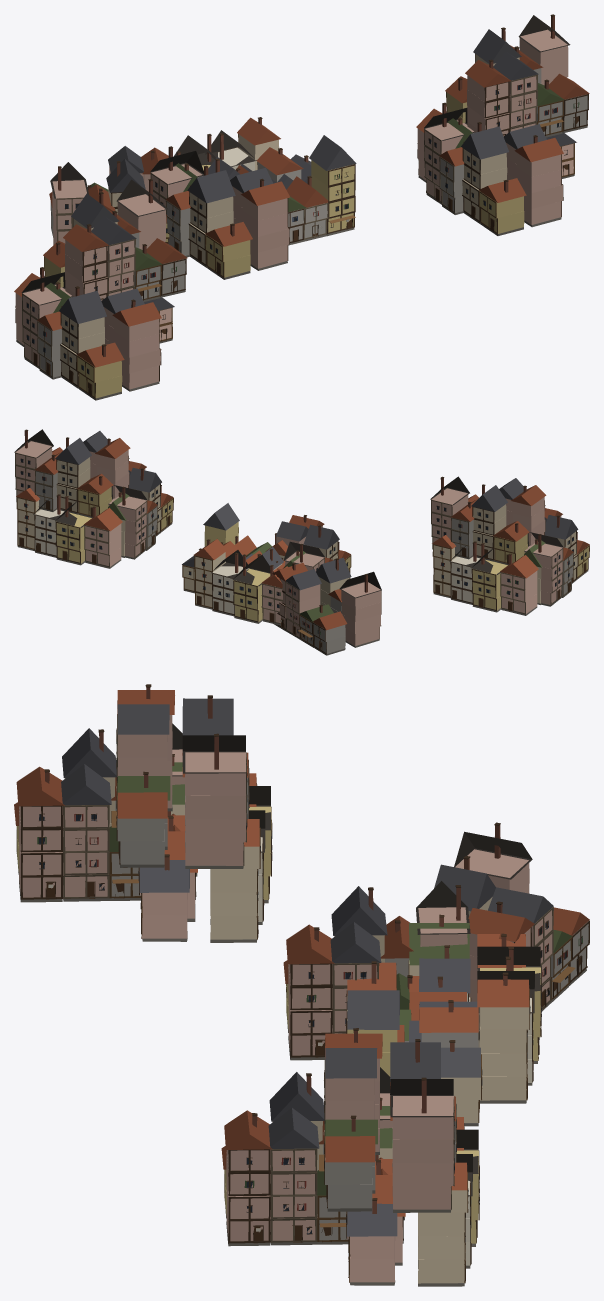
File: modular_house_blocks.glb
The picture shows the model from 3 angles, top to bottom: view 1: azimuth 30°, elevation 25°; view 2: azimuth 150°, elevation 25°; view 3: azimuth 270°, elevation 25°; orthographic projection. The views are drawn at different scales.
Visible parts, largest first — view 1: CityBlock_Var03.005, CityBlock_Var03.001, CityBlock_Var03.003, CityBlock_Var03, CityBlock_Var03.004, CityBlock_Var01, CityBlock_Var03.002, CityBlock_Var02.001, CityBlock_Var02, CityBlock_Var02.002; view 2: CityBlock_Var03.002, CityBlock_Var03, CityBlock_Var03.004, CityBlock_Var02, CityBlock_Var02.002, CityBlock_Var02.001, CityBlock_Var03.001, CityBlock_Var03.005, CityBlock_Var03.003, CityBlock_Var01; view 3: CityBlock_Var03.004, CityBlock_Var03, CityBlock_Var03.005, CityBlock_Var03.001, CityBlock_Var03.003, CityBlock_Var02.001, CityBlock_Var03.002, CityBlock_Var02.002, CityBlock_Var02, CityBlock_Var01.
Boxes of the visible parts, <box> form: CityBlock_Var03.005: <box>21,267,161,400</box>; CityBlock_Var03.001: <box>424,102,563,235</box>; CityBlock_Var03.003: <box>150,146,290,279</box>; CityBlock_Var03: <box>445,14,589,137</box>; CityBlock_Var03.004: <box>43,178,187,301</box>; CityBlock_Var01: <box>203,135,356,245</box>; CityBlock_Var03.002: <box>49,146,169,244</box>; CityBlock_Var02.001: <box>174,117,293,191</box>; CityBlock_Var02: <box>416,108,576,182</box>; CityBlock_Var02.002: <box>14,273,174,346</box>; CityBlock_Var03.002: <box>272,557,381,655</box>; CityBlock_Var03: <box>14,429,130,518</box>; CityBlock_Var03.004: <box>430,476,546,565</box>; CityBlock_Var02: <box>16,488,129,568</box>; CityBlock_Var02.002: <box>432,535,545,615</box>; CityBlock_Var02.001: <box>193,539,305,625</box>; CityBlock_Var03.001: <box>108,458,173,559</box>; CityBlock_Var03.005: <box>524,505,589,606</box>; CityBlock_Var03.003: <box>276,515,351,578</box>; CityBlock_Var01: <box>182,503,287,593</box>; CityBlock_Var03.004: <box>111,684,249,868</box>; CityBlock_Var03: <box>319,1028,456,1212</box>; CityBlock_Var03.005: <box>14,723,196,902</box>; CityBlock_Var03.001: <box>221,1067,404,1246</box>; CityBlock_Var03.003: <box>283,881,470,1060</box>; CityBlock_Var02.001: <box>408,914,541,1103</box>; CityBlock_Var03.002: <box>434,822,589,1029</box>; CityBlock_Var02.002: <box>138,754,272,942</box>; CityBlock_Var02: <box>346,1097,479,1286</box>; CityBlock_Var01: <box>346,945,482,1126</box>.
Size of the model in its own units: 121 by 27.84 by 66.47.
